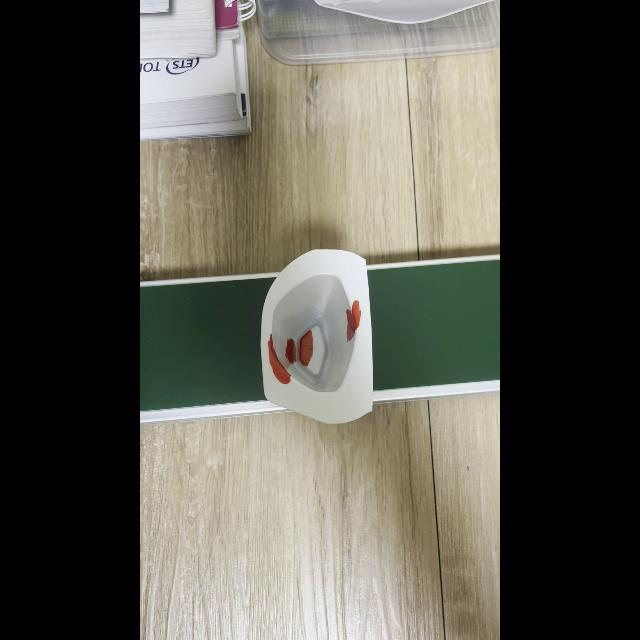dirty: (260, 249, 374, 421)
